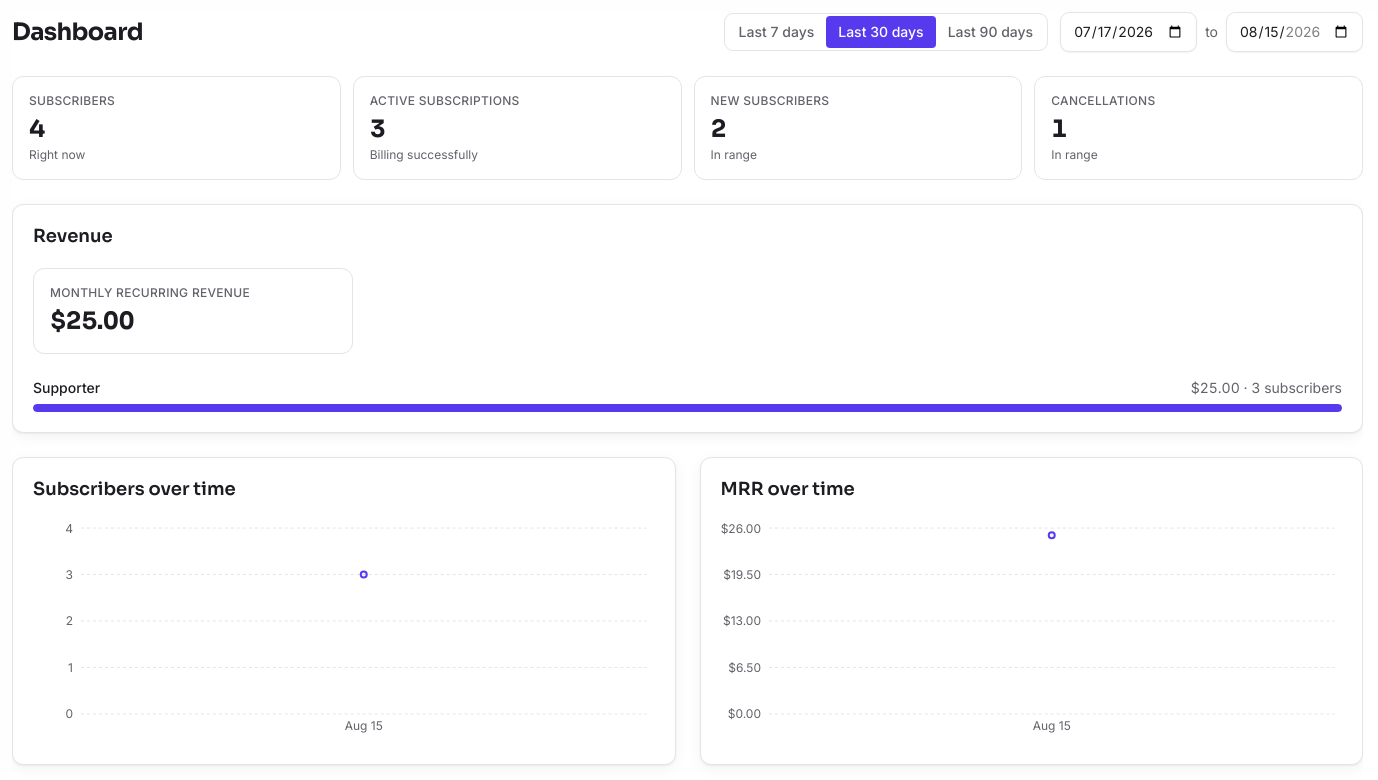
Test: DashboardClient › shows a retryable error state when the refetch fails
Click the button "Last 90 days" at [990, 32], box [936, 16, 1045, 48]
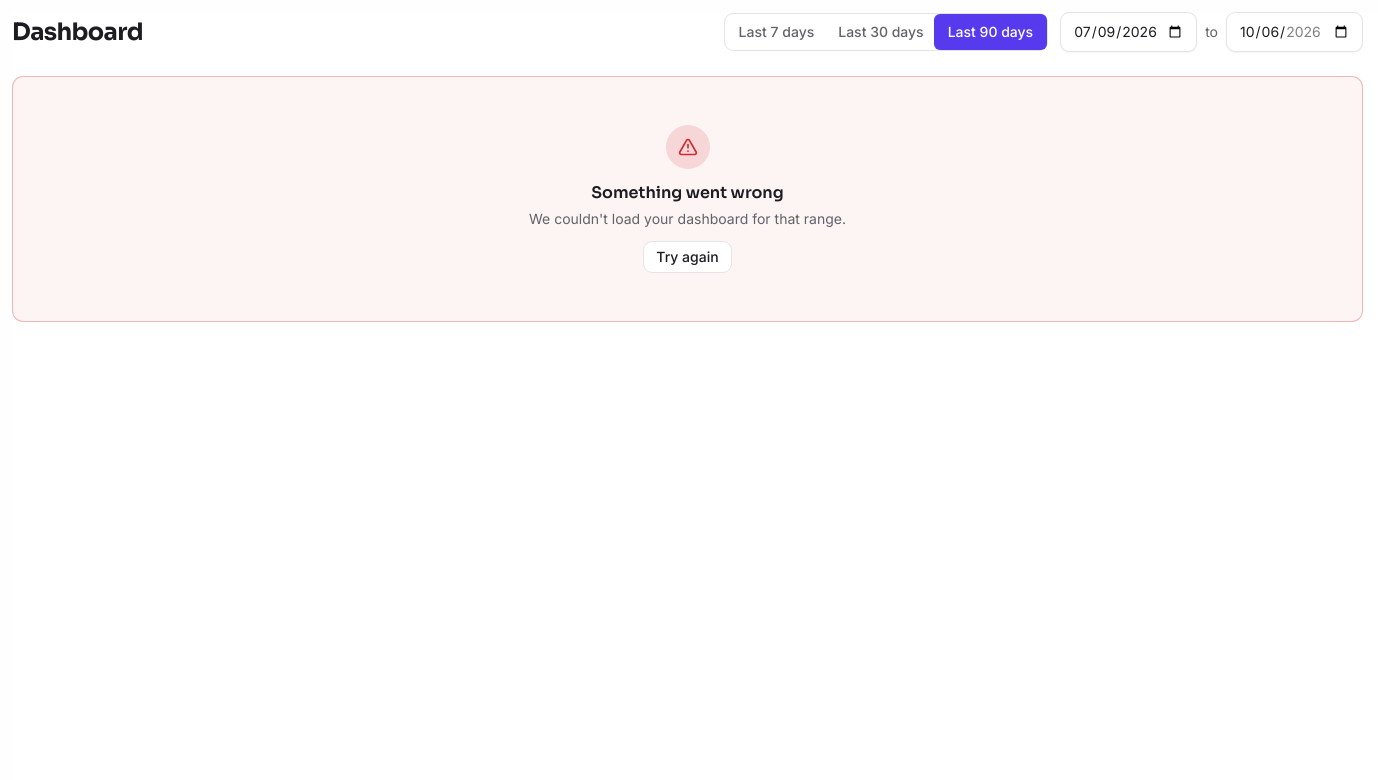
Check: the text "We couldn't load your dashboard for that range." is shown, box [529, 209, 846, 229]
Click the button "Try again" at [687, 257], box [643, 241, 732, 273]
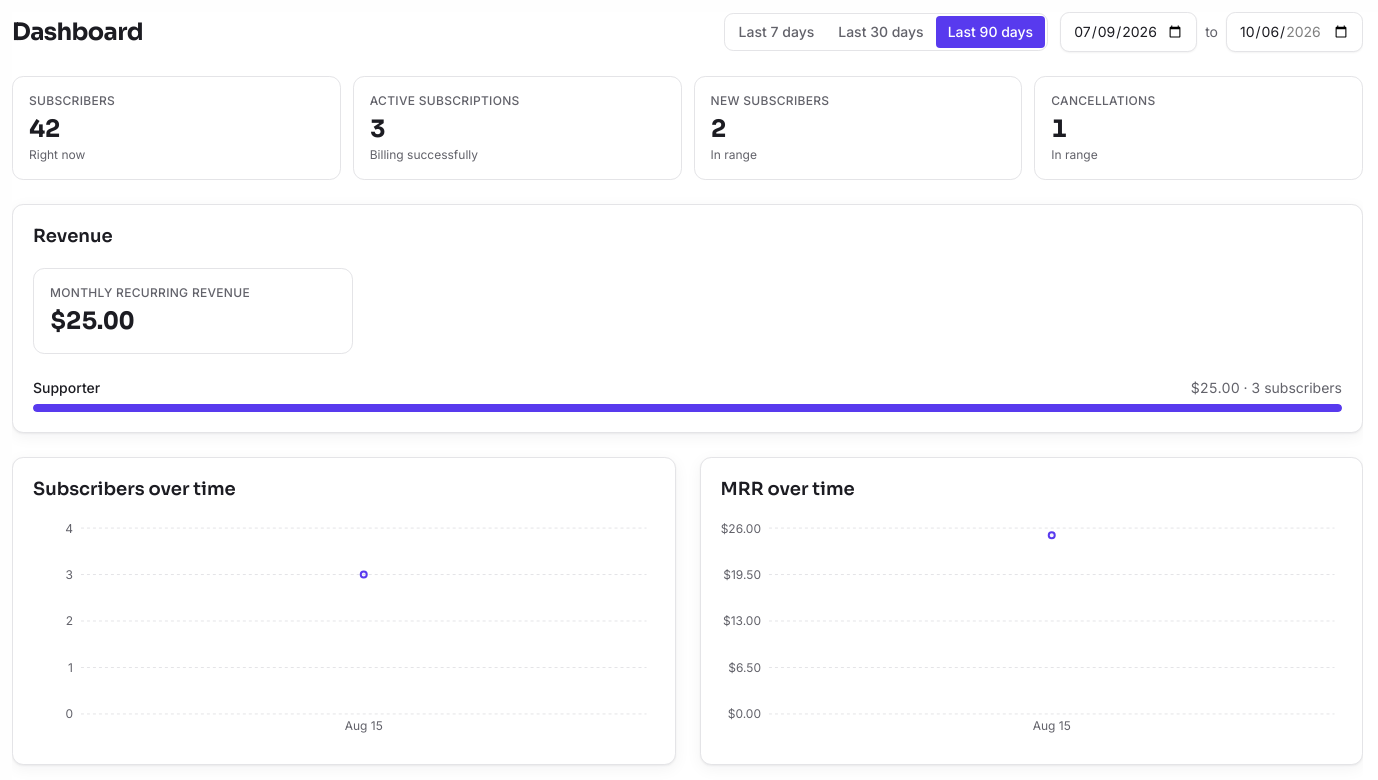
Check: the text "42" is shown, box [29, 114, 60, 144]
